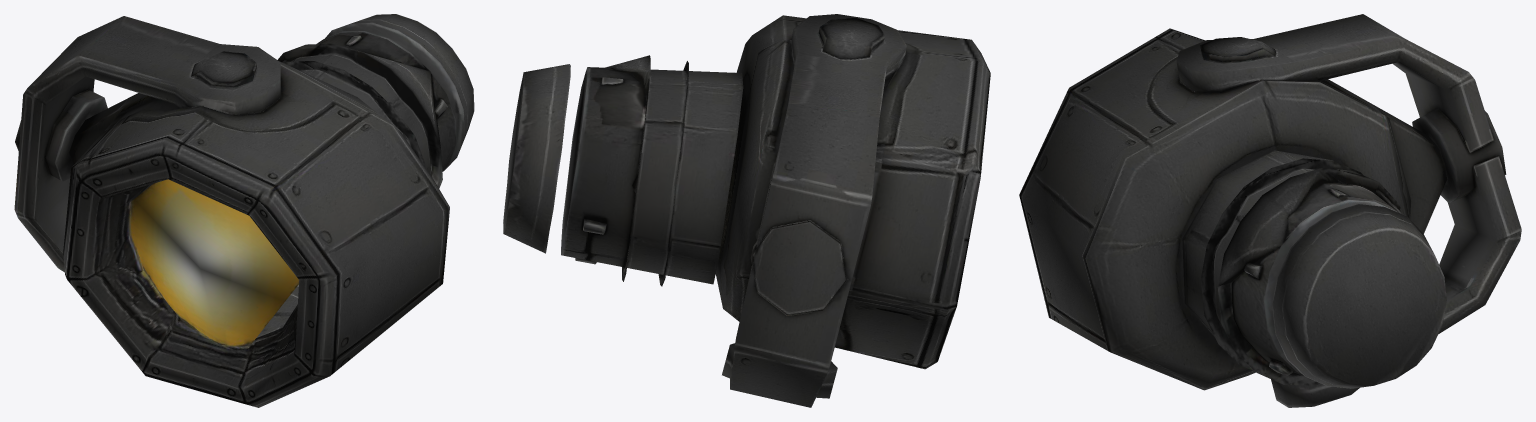
Rendered from cold-iron-v2-light-a-spot.glb.
3 renders of one model, left to right at view 1: azimuth 30°, elevation 25°; view 2: azimuth 150°, elevation 25°; view 3: azimuth 270°, elevation 25°, orthographic. The views are drawn at different scales.
Parts seen in each view (by area): view 1: tripo_node_2809417f-2982-43e3-a94e-2626e32f274b; view 2: tripo_node_2809417f-2982-43e3-a94e-2626e32f274b; view 3: tripo_node_2809417f-2982-43e3-a94e-2626e32f274b.
Boxes of the visible parts, left/top/right/bottom form: tripo_node_2809417f-2982-43e3-a94e-2626e32f274b: left=14, top=14, right=474, bottom=407; tripo_node_2809417f-2982-43e3-a94e-2626e32f274b: left=503, top=14, right=990, bottom=407; tripo_node_2809417f-2982-43e3-a94e-2626e32f274b: left=1019, top=14, right=1521, bottom=407.
Size of the model in its own units: 1.08 by 0.796 by 1.06.
1 material, 1 textured.
